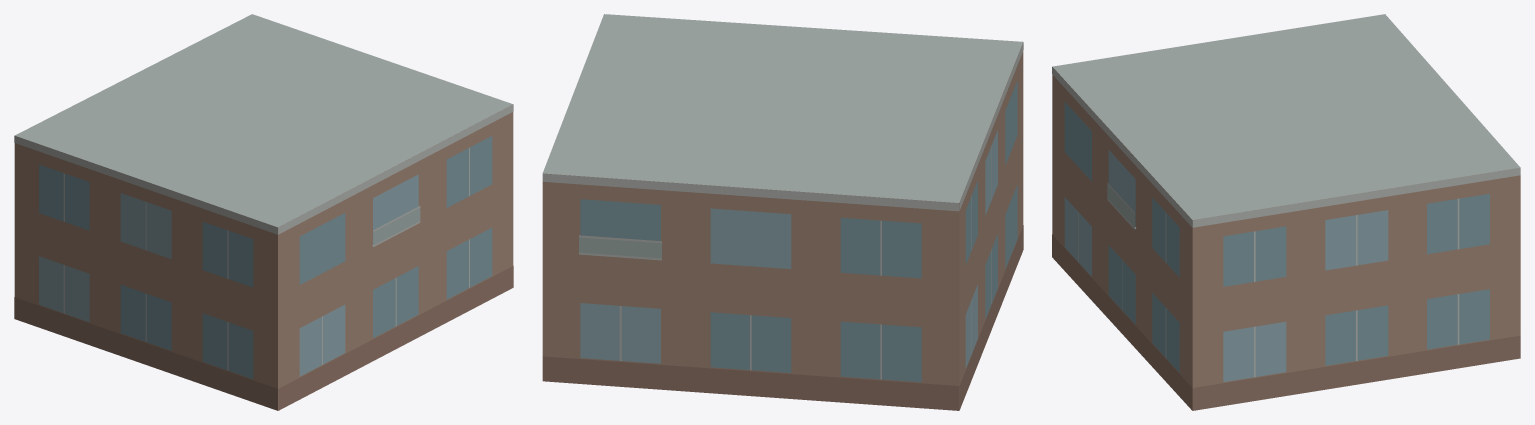
The model's file is survey-upis-32854432.glb.
3 views of the same model, side by side, from view 1: azimuth 30°, elevation 25°; view 2: azimuth 150°, elevation 25°; view 3: azimuth 270°, elevation 25° (orthographic). The views are drawn at different scales.
Visible parts, largest first — view 1: survey-upis-32854432.tmp; view 2: survey-upis-32854432.tmp; view 3: survey-upis-32854432.tmp.
Part boxes in pixels (bbox=[...]): survey-upis-32854432.tmp: bbox=[14, 14, 513, 410]; survey-upis-32854432.tmp: bbox=[542, 14, 1023, 410]; survey-upis-32854432.tmp: bbox=[1052, 14, 1520, 410].
Bounding box in the file's own units: 14.15 × 6.1 × 13.59.
